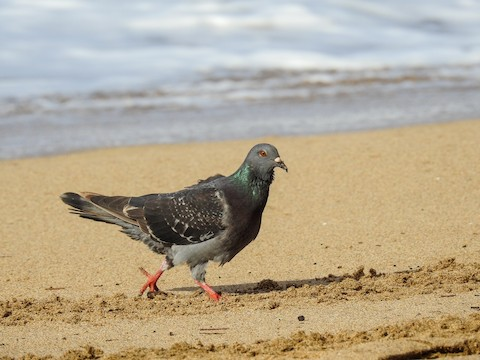pigeon: (59, 140, 300, 307)
